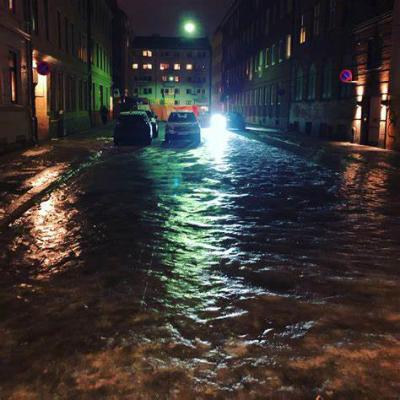iced-road: (0, 129, 400, 400)
